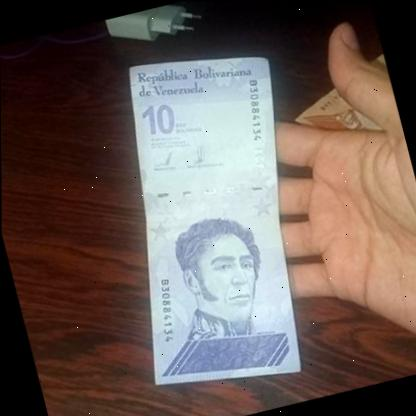ten-front-vef: (76, 32, 348, 407)
